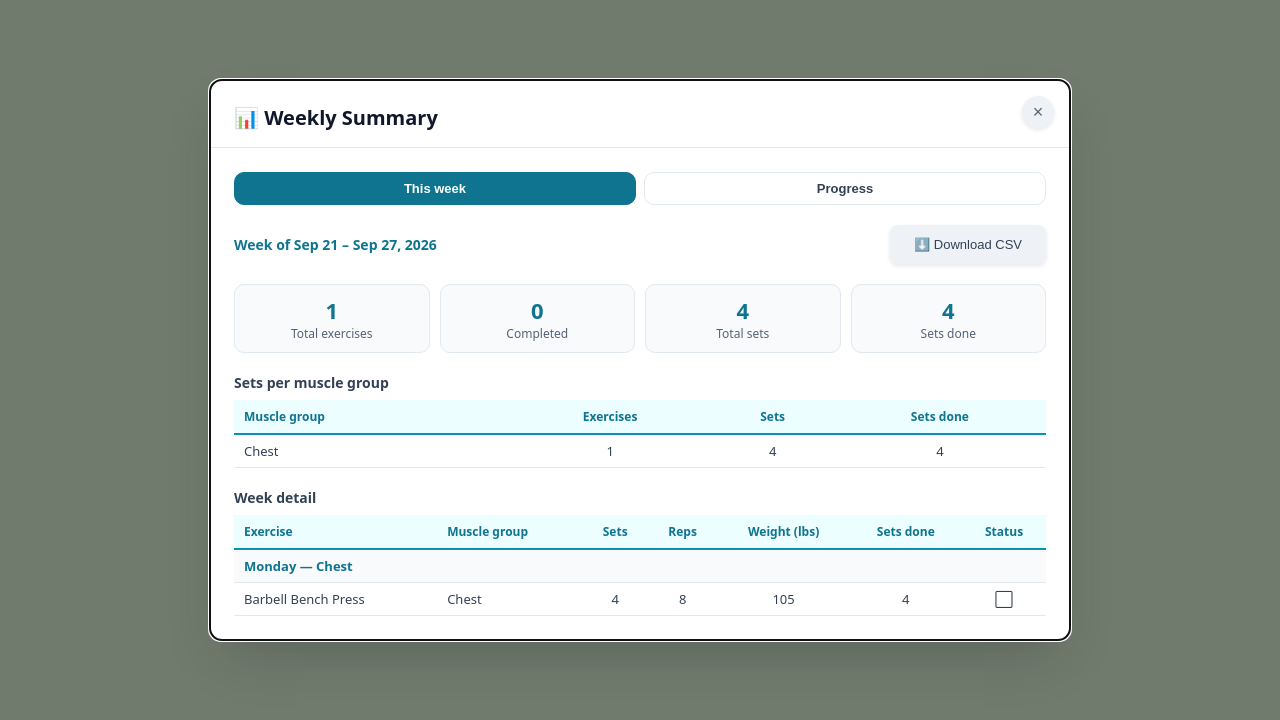
WeeklySummaryModal progress tab › shows the chart, weekly table and per-exercise rows once two weeks have data
The width and height of the screenshot is (1280, 720).
What coordinates should you click on to do the following:
click the button "Progress"
I would click on:
 (845, 188)
Its box is [644,172,1046,205].
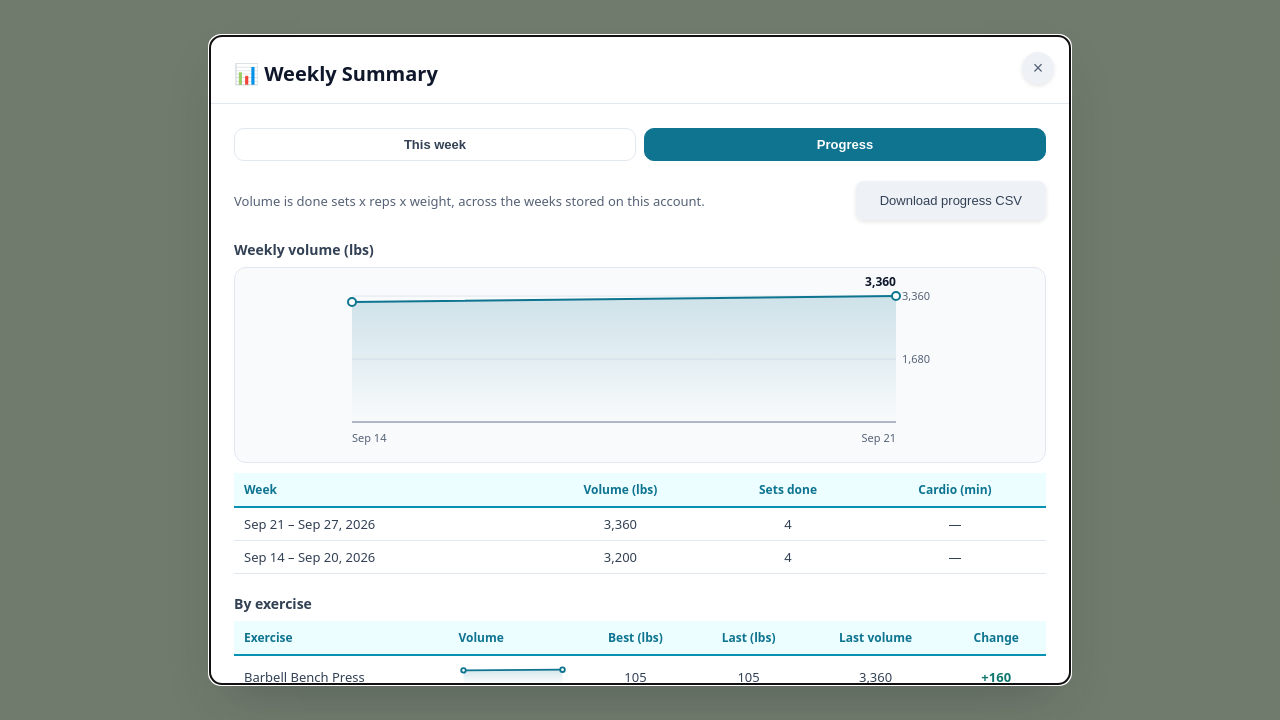
Result: the picture named "Weekly volume (lbs)" is shown at [247,280,1033,450]
Result: the button "Download progress CSV" is shown at [856,181,1046,220]
Result: the picture named "Barbell Bench Press: Volume" is shown at [458,663,568,684]
